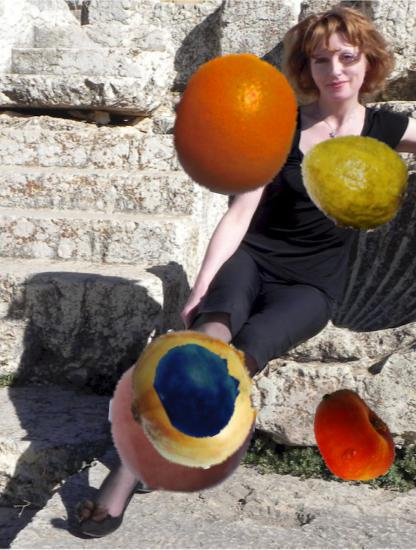Cherry: (108, 352, 255, 499)
Grapefruit: (161, 52, 305, 196)
Guava: (297, 126, 409, 238)
Huckleberry: (150, 341, 248, 439)
Nectarine: (301, 388, 402, 489)
Onion: (121, 326, 266, 471)
